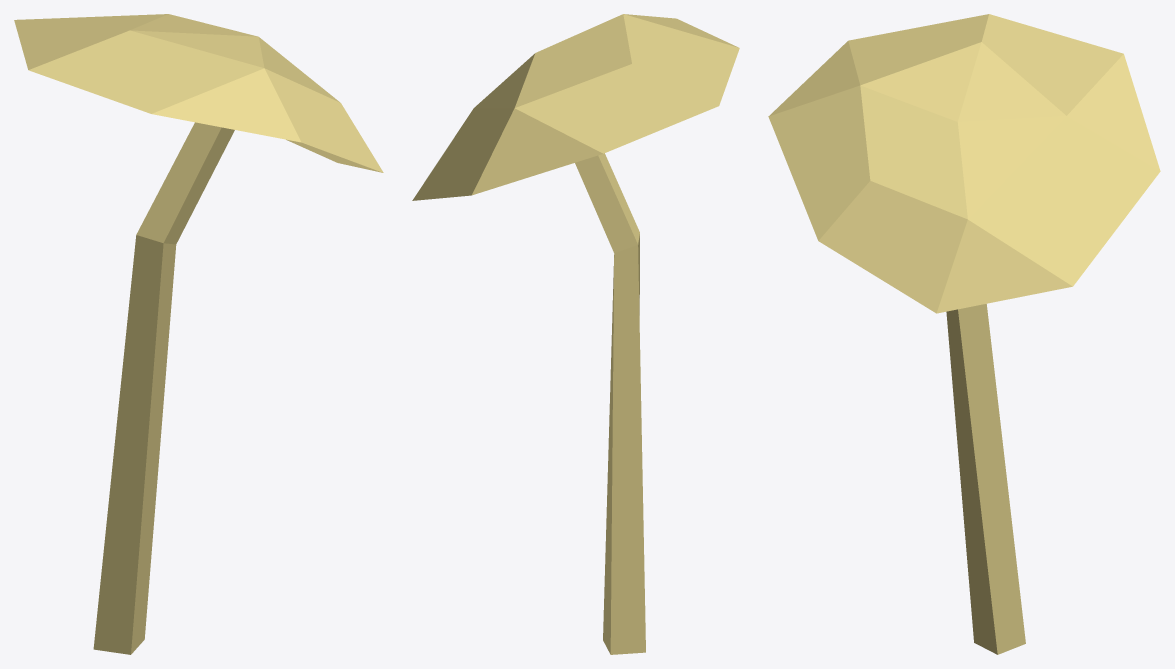
Rendered from Mushroom_h_03.fbx.
3 views of the same model, side by side, from view 1: azimuth 30°, elevation 25°; view 2: azimuth 150°, elevation 25°; view 3: azimuth 270°, elevation 25° (orthographic). The views are drawn at different scales.
Visible parts, largest first — view 1: Mushroom_h_03; view 2: Mushroom_h_03; view 3: Mushroom_h_03.
Boxes of the visible parts, <box> form: Mushroom_h_03: <box>14,14,383,654</box>; Mushroom_h_03: <box>412,14,739,654</box>; Mushroom_h_03: <box>768,14,1160,654</box>.
Size of the model in its own units: 0.1397 by 0.2607 by 0.1539.
